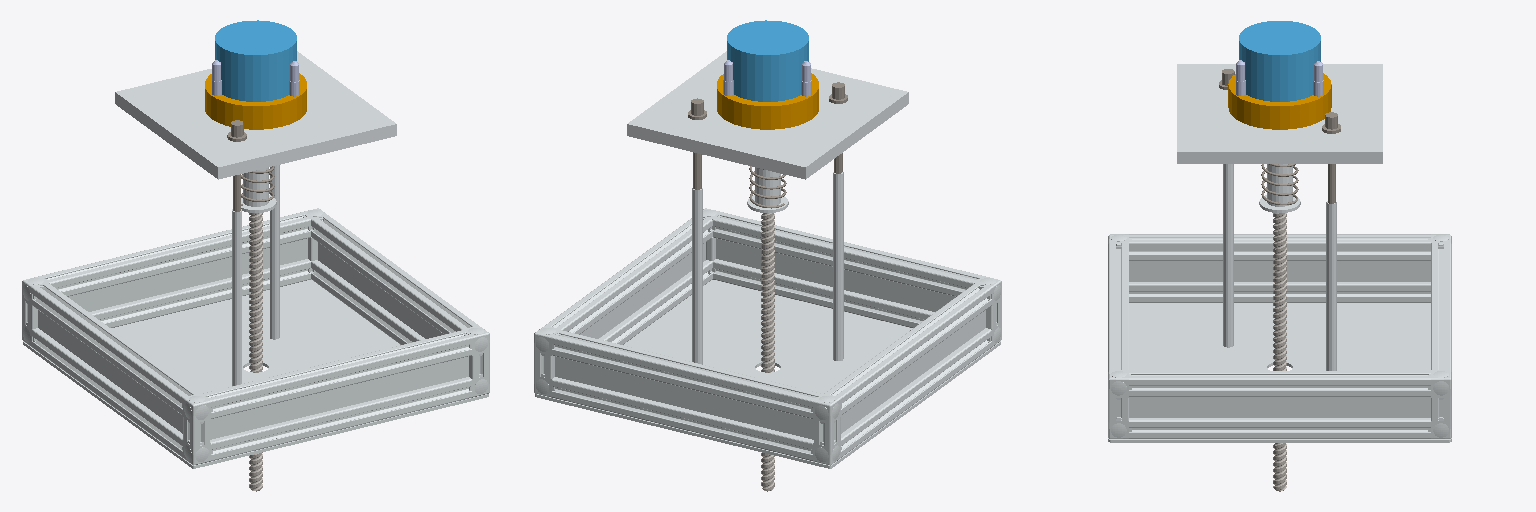
The robot description file, URDF, robot "disarm":
<?xml version="1.0" ?>
<!-- =================================================================================== -->
<!-- |    This document was autogenerated by xacro from disarm.xacro                   | -->
<!-- |    EDITING THIS FILE BY HAND IS NOT RECOMMENDED                                 | -->
<!-- =================================================================================== -->
<robot name="disarm">
  <gazebo reference="laz_base">
    <material>Gazebo/Grey</material>
    <mu1>0.2</mu1>
    <mu2>0.2</mu2>
  </gazebo>
  <link name="laz_base">
    <visual>
      <geometry>
        <cylinder length="0.05" radius="0.05"/>
      </geometry>
    </visual>
    <collision>
      <geometry>
        <cylinder length="0.05" radius="0.05"/>
      </geometry>
    </collision>
    <inertial>
      <mass value="0.1"/>
      <inertia ixx="8.333333333333334e-05" ixy="0" ixz="0" iyy="8.333333333333334e-05" iyz="0" izz="0.00012500000000000003"/>
    </inertial>
  </link>
  <gazebo reference="laz_rot">
    <material>Gazebo/RedGlow</material>
    <mu1>0.2</mu1>
    <mu2>0.2</mu2>
    <sensor name="laz" type="ray">
      <always_on>true</always_on>
      <pose>0.04 0 0.025 1.5707963267948966 0 0</pose>
      <visualize>true</visualize>
      <update_rate>30</update_rate>
      <ray>
        <noise>
          <type>gaussian</type>
          <mean>0.0</mean>
          <stddev>0.01</stddev>
        </noise>
        <scan>
          <horizontal>
            <samples>15</samples>
            <resolution>1</resolution>
            <min_angle>-0.39269908169872414</min_angle>
            <max_angle>0.39269908169872414</max_angle>
          </horizontal>
          <vertical>
            <samples>1</samples>
            <resolution>1</resolution>
            <min_angle>-0.15</min_angle>
            <max_angle>0.15</max_angle>
          </vertical>
        </scan>
        <range>
          <min>0.05</min>
          <max>15</max>
          <resolution>0.02</resolution>
        </range>
      </ray>
    </sensor>
  </gazebo>
  <link name="laz_rot">
    <visual>
      <geometry>
        <cylinder length="0.1" radius="0.04"/>
      </geometry>
    </visual>
    <collision>
      <geometry>
        <cylinder length="0.1" radius="0.04"/>
      </geometry>
    </collision>
    <inertial>
      <mass value="0.1"/>
      <inertia ixx="0.00012333333333333334" ixy="0" ixz="0" iyy="0.00012333333333333334" iyz="0" izz="8e-05"/>
    </inertial>
  </link>
  <joint name="lazRot" type="continuous">
    <parent link="laz_base"/>
    <child link="laz_rot"/>
    <axis xyz="0 0 1"/>
    <origin xyz="0 0 0.025"/>
    <dynamics friction="0.1"/>
  </joint>
  <link name="Base">
    <inertial>
      <origin rpy="0 0 0" xyz="-5.55273347840374E-12 0.0198775572672886 1.8266337120941E-15"/>
      <mass value="0.97111408193929"/>
      <inertia ixx="0.00536135352038558" ixy="6.88912725720862E-21" ixz="3.74714690579434E-18" iyy="0.0106051710557368" iyz="2.88015866730821E-14" izz="0.00536135352161332"/>
    </inertial>
    <visual>
      <origin rpy="0 0 0" xyz="0 0 0"/>
      <geometry>
        <mesh filename="package://disarm_simulation/meshes/Base.dae"/>
      </geometry>
      <material name="">
        <color rgba="0.898039215686275 0.92156862745098 0.929411764705882 1"/>
      </material>
    </visual>
    <collision>
      <origin rpy="0 0 0" xyz="0 0 0"/>
      <geometry>
        <mesh filename="package://disarm_simulation/meshes/Base.dae"/>
      </geometry>
    </collision>
  </link>
  <link name="TopPlate">
    <inertial>
      <origin rpy="0 0 0" xyz="1.58955409883714E-19 -1.53656896220924E-18 -0.00635000000000002"/>
      <mass value="0.499569903680432"/>
      <inertia ixx="0.00169478873986709" ixy="4.98727833757379E-06" ixz="2.59647914249901E-36" iyy="0.00169478873986709" iyz="-3.78622333347601E-21" izz="0.00337614820810675"/>
    </inertial>
    <visual>
      <origin rpy="0 0 0" xyz="0 0 0"/>
      <geometry>
        <mesh filename="package://disarm_simulation/meshes/TopPlate.dae"/>
      </geometry>
      <material name="">
        <color rgba="0.898039215686275 0.917647058823529 0.929411764705882 1"/>
      </material>
    </visual>
    <collision>
      <origin rpy="0 0 0" xyz="0 0 0"/>
      <geometry>
        <mesh filename="package://disarm_simulation/meshes/TopPlate.dae"/>
      </geometry>
    </collision>
  </link>
  <joint name="TopPlate" type="fixed">
    <origin rpy="0 0 0" xyz="0 0 0.27734"/>
    <parent link="Base"/>
    <child link="TopPlate"/>
    <axis xyz="0 0 0"/>
  </joint>
  <link name="LeadScrew">
    <inertial>
      <origin rpy="0 0 0" xyz="1.98048377824802E-15 2.03812680975379E-15 0.15239979525496"/>
      <mass value="0.0333340214720035"/>
      <inertia ixx="0.00025706177889837" ixy="4.00092292165742E-10" ixz="-4.85652345071711E-18" iyy="0.000257061865946236" iyz="-1.00428635170997E-17" izz="5.98195957884321E-07"/>
    </inertial>
    <visual>
      <origin rpy="0 0 0" xyz="0 0 0"/>
      <geometry>
        <mesh filename="package://disarm_simulation/meshes/LeadScrew.dae"/>
      </geometry>
      <material name="">
        <color rgba="0.776470588235294 0.756862745098039 0.737254901960784 1"/>
      </material>
    </visual>
    <collision>
      <origin rpy="0 0 0" xyz="0 0 0"/>
      <geometry>
        <mesh filename="package://disarm_simulation/meshes/LeadScrew.dae"/>
      </geometry>
    </collision>
  </link>
  <joint name="LeadScrew" type="fixed">
    <origin rpy="-3.1416 0 1.5708" xyz="0 0 0.17416"/>
    <parent link="Base"/>
    <child link="LeadScrew"/>
    <axis xyz="0 0 0"/>
  </joint>
  <link name="Actuators">
    <inertial>
      <origin rpy="0 0 0" xyz="0.0432711387853683 0.0296455278870579 0.02812803901053"/>
      <mass value="0.0130196724760446"/>
      <inertia ixx="3.69592083348409E-06" ixy="0" ixz="-4.45239866650376E-23" iyy="3.69592083348409E-06" iyz="-4.54851536693767E-24" izz="1.53260849655743E-07"/>
    </inertial>
    <visual>
      <origin rpy="0 0 0" xyz="0 0 0"/>
      <geometry>
        <mesh filename="package://disarm_simulation/meshes/Actuators.dae"/>
      </geometry>
      <material name="">
        <color rgba="0.792156862745098 0.819607843137255 0.933333333333333 1"/>
      </material>
    </visual>
    <collision>
      <origin rpy="0 0 0" xyz="0 0 0"/>
      <geometry>
        <mesh filename="package://disarm_simulation/meshes/Actuators.dae"/>
      </geometry>
    </collision>
  </link>
  <joint name="Actuators" type="fixed">
    <origin rpy="0 0 0.087041" xyz="-0.04053 -0.033295 0.27734"/>
    <parent link="Base"/>
    <child link="Actuators"/>
    <axis xyz="0 0 0"/>
  </joint>
  <link name="Sensors">
    <inertial>
      <origin rpy="0 0 0" xyz="0 0 -0.07665443435274"/>
      <mass value="0.0258518493327558"/>
      <inertia ixx="0.000116720762269735" ixy="0" ixz="-7.4904192559537E-22" iyy="0.000116720762269735" iyz="-3.87382024352665E-22" izz="3.22544638923194E-07"/>
    </inertial>
    <visual>
      <origin rpy="0 0 0" xyz="0 0 0"/>
      <geometry>
        <mesh filename="package://disarm_simulation/meshes/Sensors.dae"/>
      </geometry>
      <material name="">
        <color rgba="0.647058823529412 0.619607843137255 0.588235294117647 1"/>
      </material>
    </visual>
    <collision>
      <origin rpy="0 0 0" xyz="0 0 0"/>
      <geometry>
        <mesh filename="package://disarm_simulation/meshes/Sensors.dae"/>
      </geometry>
    </collision>
  </link>
  <joint name="Sensors" type="fixed">
    <origin rpy="0 0 0" xyz="0 0 0.27734"/>
    <parent link="Base"/>
    <child link="Sensors"/>
    <axis xyz="0 0 0"/>
  </joint>
  <link name="GuidingRods">
    <inertial>
      <origin rpy="0 0 0" xyz="-0.171024287797596 -0.146499999999999 0.1"/>
      <mass value="0.0113097335529233"/>
      <inertia ixx="3.7815036611995E-05" ixy="-2.7459327880969E-24" ixz="4.41162993361615E-23" iyy="3.7815036611995E-05" iyz="-2.30123048439557E-21" izz="2.31849537834927E-07"/>
    </inertial>
    <visual>
      <origin rpy="0 0 0" xyz="0 0 0"/>
      <geometry>
        <mesh filename="package://disarm_simulation/meshes/GuidingRods.dae"/>
      </geometry>
      <material name="">
        <color rgba="0.898039215686275 0.917647058823529 0.929411764705882 1"/>
      </material>
    </visual>
    <collision>
      <origin rpy="0 0 0" xyz="0 0 0"/>
      <geometry>
        <mesh filename="package://disarm_simulation/meshes/GuidingRods.dae"/>
      </geometry>
    </collision>
  </link>
  <joint name="GuidingRods" type="fixed">
    <origin rpy="0 0 0" xyz="0.17102 0.1465 0"/>
    <parent link="Base"/>
    <child link="GuidingRods"/>
    <axis xyz="0 0 0"/>
  </joint>
  <link name="Spring">
    <inertial>
      <origin rpy="0 0 0" xyz="0.00061830752811633 -3.26690924024917E-05 0.0463547451997558"/>
      <mass value="0.00451280399567217"/>
      <inertia ixx="3.42990300571367E-06" ixy="-2.26257135597584E-10" ixz="5.85962356263877E-10" iyy="3.42574979185041E-06" iyz="1.08654493870811E-08" izz="1.24218274149091E-06"/>
    </inertial>
    <visual>
      <origin rpy="0 0 0" xyz="0 0 0"/>
      <geometry>
        <mesh filename="package://disarm_simulation/meshes/Spring.dae"/>
      </geometry>
      <material name="">
        <color rgba="0.647058823529412 0.619607843137255 0.588235294117647 1"/>
      </material>
    </visual>
    <collision>
      <origin rpy="0 0 0" xyz="0 0 0"/>
      <geometry>
        <mesh filename="package://disarm_simulation/meshes/Spring.dae"/>
      </geometry>
    </collision>
  </link>
  <joint name="Spring" type="fixed">
    <origin rpy="0 0 1.6634" xyz="0 0 0.17416"/>
    <parent link="Base"/>
    <child link="Spring"/>
    <axis xyz="0 0 0"/>
  </joint>
  <link name="OuterShaft">
    <inertial>
      <origin rpy="0 0 0" xyz="-1.16944404750797E-18 1.08659799764285E-19 0.052847462910129"/>
      <mass value="0.0582803621336116"/>
      <inertia ixx="6.52475639666046E-05" ixy="-1.6940658945086E-21" ixz="-3.04521430256183E-21" iyy="6.52475639666046E-05" iyz="-5.46162562756676E-22" izz="5.54112270137053E-06"/>
    </inertial>
    <visual>
      <origin rpy="0 0 0" xyz="0 0 0"/>
      <geometry>
        <mesh filename="package://disarm_simulation/meshes/OuterShaft.dae"/>
      </geometry>
      <material name="">
        <color rgba="0.898039215686275 0.917647058823529 0.929411764705882 1"/>
      </material>
    </visual>
    <collision>
      <origin rpy="0 0 0" xyz="0 0 0"/>
      <geometry>
        <mesh filename="package://disarm_simulation/meshes/OuterShaft.dae"/>
      </geometry>
    </collision>
  </link>
  <joint name="OuterShaft" type="fixed">
    <origin rpy="0 0 1.66344608700645" xyz="0 0 0.174160571111755"/>
    <parent link="Base"/>
    <child link="OuterShaft"/>
    <axis xyz="0 0 0"/>
  </joint>
  <joint name="lidarGlue" type="fixed">
    <parent link="TopPlate"/>
    <child link="laz_base"/>
    <origin xyz="0 0 0"/>
  </joint>
</robot>

--- Facts derived from the render (not from the file) ---
3 views of the same robot in one strip: view 1: azimuth 30°, elevation 25°; view 2: azimuth 150°, elevation 25°; view 3: azimuth 270°, elevation 25° (orthographic).
Robot: disarm — 10 links, 9 joints (1 continuous, 8 fixed); root link Base; default pose: every joint at zero.
Links seen in each view (by area): view 1: Base, TopPlate, laz_rot, GuidingRods, laz_base, LeadScrew, OuterShaft, Actuators, Sensors; view 2: Base, TopPlate, laz_rot, GuidingRods, laz_base, LeadScrew, Sensors, OuterShaft, Actuators; view 3: Base, TopPlate, laz_rot, GuidingRods, laz_base, LeadScrew, OuterShaft, Sensors, Actuators, Spring.
Boxes of the visible links, x1=… form: Base: x1=22, y1=208, x2=489, y2=468; TopPlate: x1=115, y1=51, x2=396, y2=179; laz_rot: x1=215, y1=20, x2=296, y2=101; GuidingRods: x1=232, y1=165, x2=279, y2=385; laz_base: x1=205, y1=73, x2=306, y2=129; LeadScrew: x1=249, y1=213, x2=262, y2=491; OuterShaft: x1=241, y1=167, x2=276, y2=212; Actuators: x1=212, y1=60, x2=299, y2=96; Sensors: x1=227, y1=120, x2=246, y2=211; Base: x1=534, y1=208, x2=1001, y2=468; TopPlate: x1=627, y1=51, x2=908, y2=179; laz_rot: x1=727, y1=20, x2=808, y2=101; GuidingRods: x1=692, y1=172, x2=843, y2=364; laz_base: x1=717, y1=73, x2=818, y2=129; LeadScrew: x1=761, y1=213, x2=774, y2=491; Sensors: x1=688, y1=82, x2=847, y2=189; OuterShaft: x1=747, y1=167, x2=788, y2=212; Actuators: x1=723, y1=60, x2=811, y2=96; Base: x1=1108, y1=234, x2=1451, y2=442; TopPlate: x1=1177, y1=64, x2=1382, y2=163; laz_rot: x1=1239, y1=21, x2=1320, y2=101; GuidingRods: x1=1223, y1=164, x2=1336, y2=370; laz_base: x1=1228, y1=73, x2=1331, y2=129; LeadScrew: x1=1273, y1=213, x2=1286, y2=491; OuterShaft: x1=1259, y1=164, x2=1300, y2=212; Sensors: x1=1219, y1=69, x2=1340, y2=203; Actuators: x1=1236, y1=60, x2=1323, y2=96; Spring: x1=1261, y1=164, x2=1298, y2=204.
Size in the robot's own frame: 0.334 by 0.334 by 0.4832 metres.
8 mesh visuals loaded from 8 distinct referenced files (8 Collada DAE).
